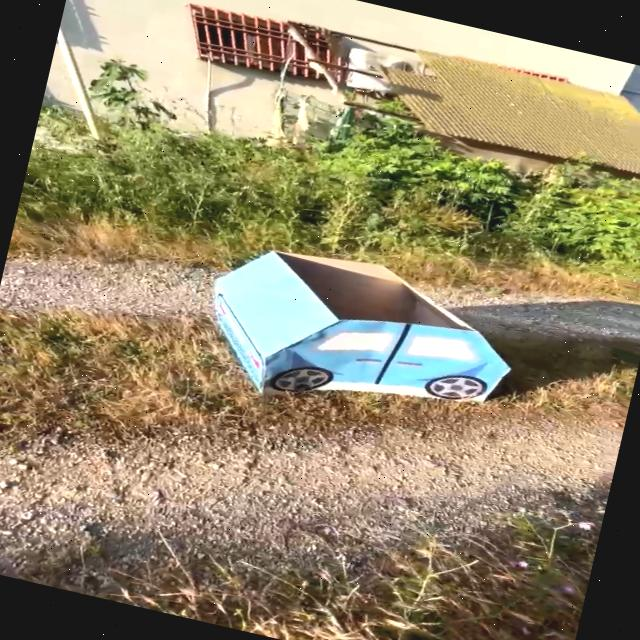blue_car: (127, 179, 628, 488)
